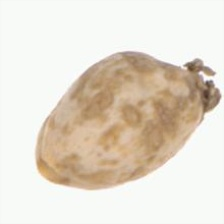L1: (182, 58, 222, 127), (33, 132, 71, 188)
L2: (34, 50, 221, 190)
